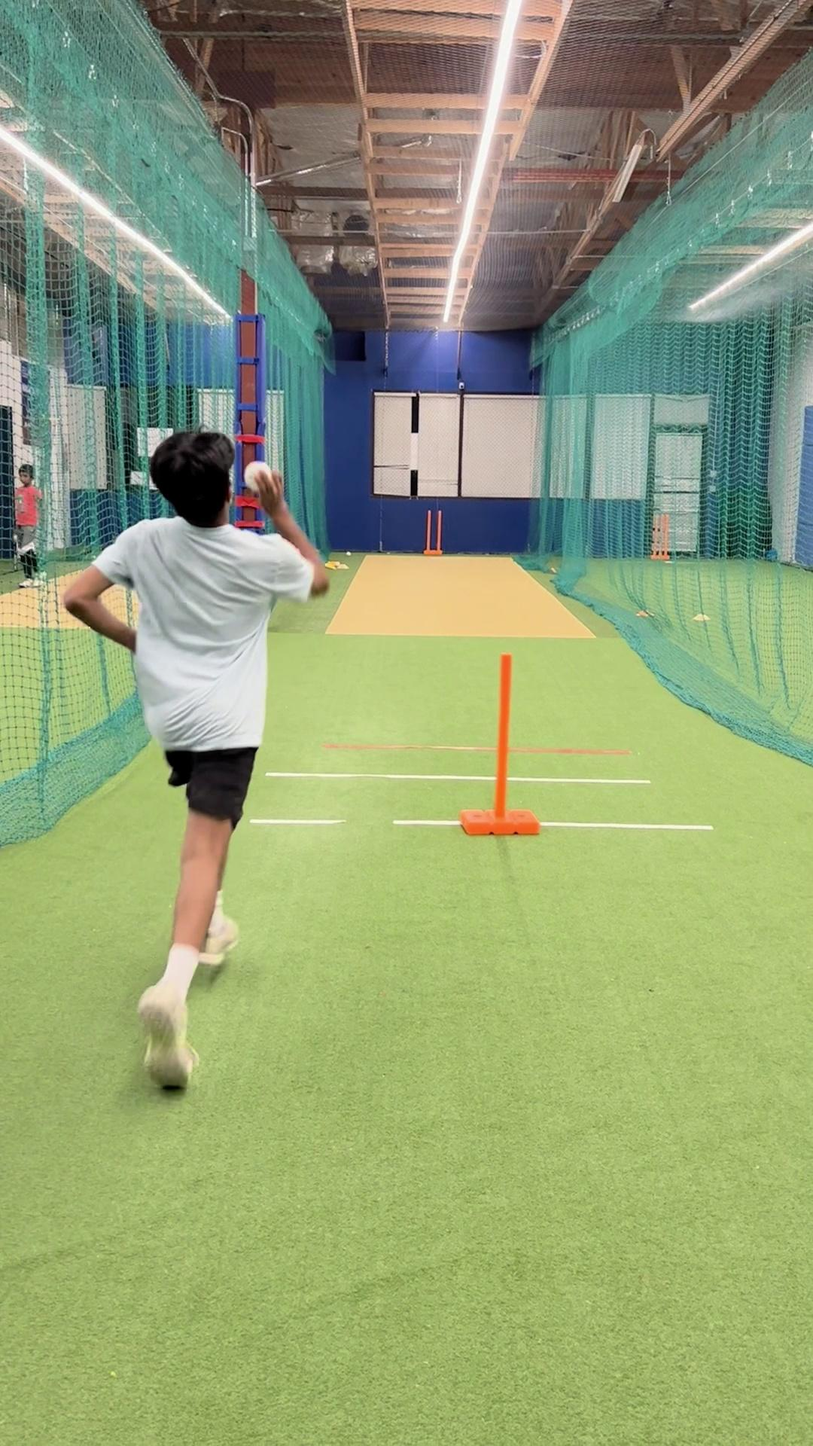ball: (239, 457, 274, 497)
